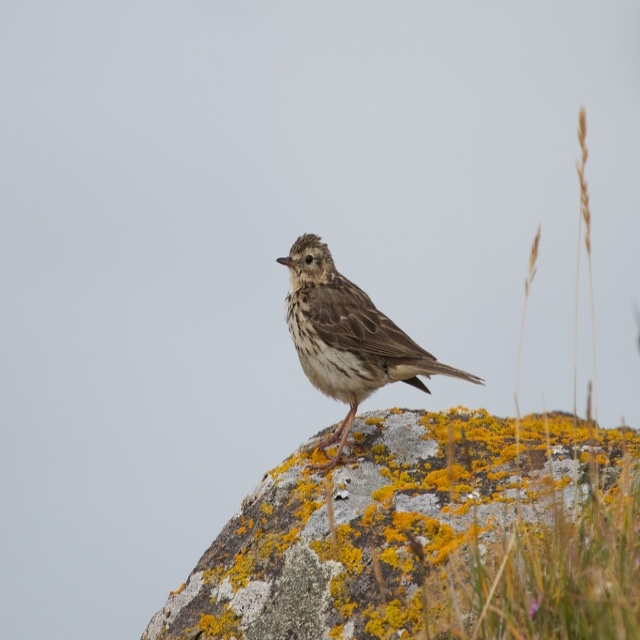Sparrow: (277, 231, 480, 471)
